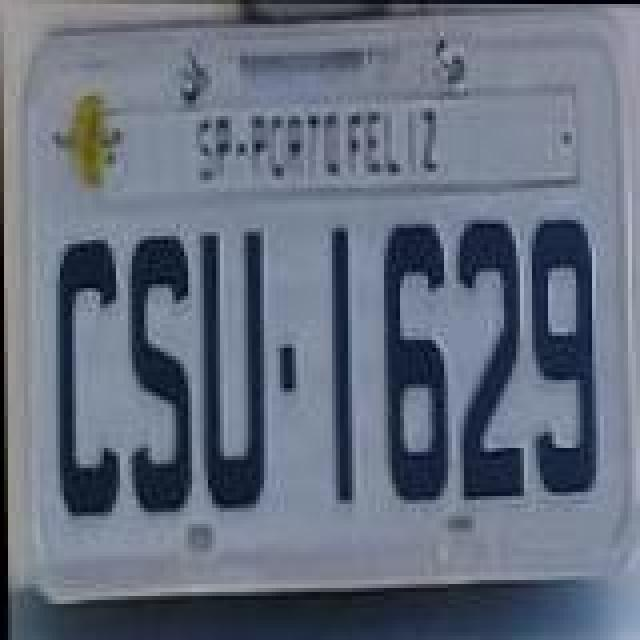1: (328, 224, 352, 508)
2: (458, 214, 526, 502)
6: (382, 220, 450, 504)
9: (528, 218, 600, 502)
C: (54, 238, 122, 522)
S: (126, 234, 194, 518)
U: (196, 228, 268, 512)
